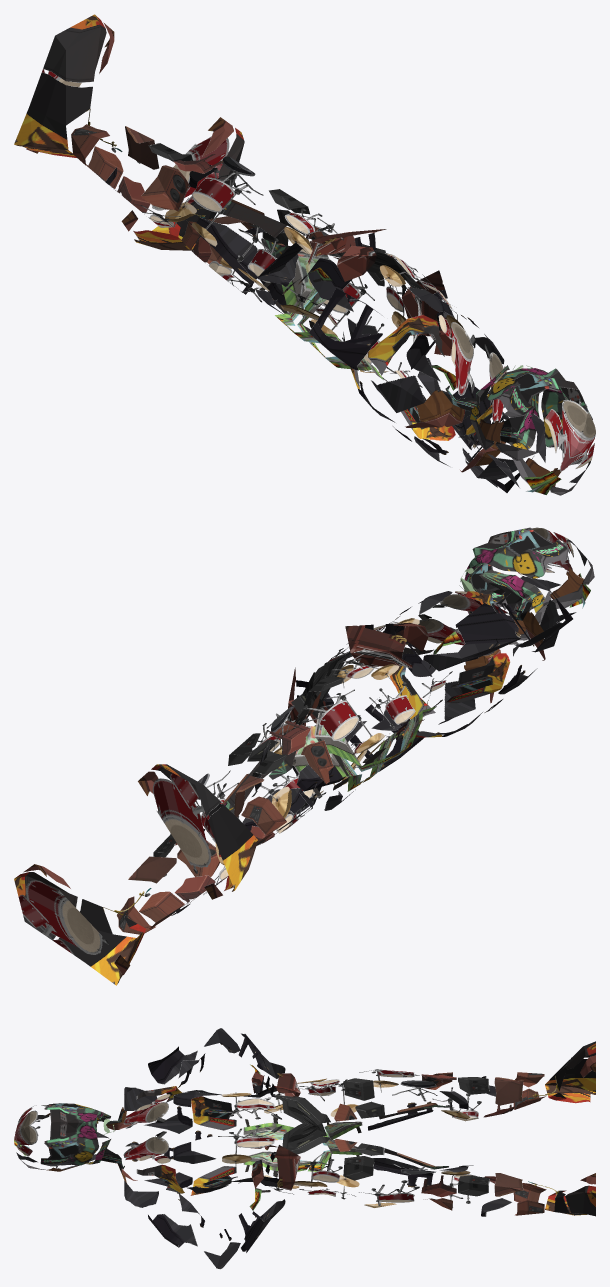
3 renders of one model, top to bottom at view 1: azimuth 30°, elevation 25°; view 2: azimuth 150°, elevation 25°; view 3: azimuth 270°, elevation 25°, orthographic. The views are drawn at different scales.
Bounding box in the file's own units: 0.5806 × 0.5806 × 1.6.
